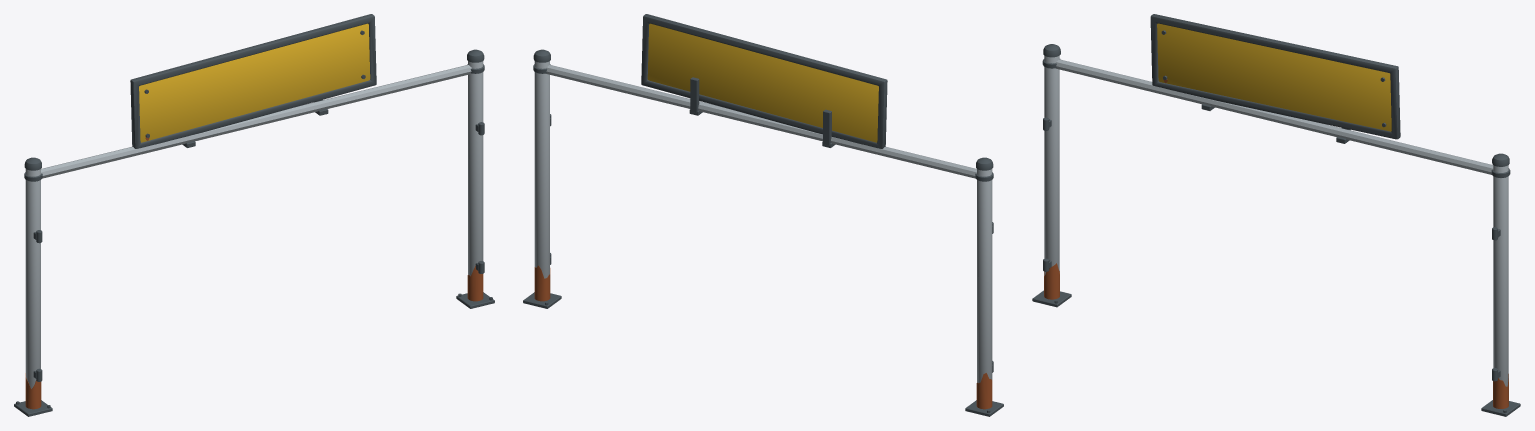
The model's file is fence_gate.glb.
3 renders of one model, left to right at view 1: azimuth 30°, elevation 25°; view 2: azimuth 150°, elevation 25°; view 3: azimuth 330°, elevation 25°, orthographic.
Parts seen in each view (by area): view 1: Gate; view 2: Gate; view 3: Gate.
Part boxes in pixels (bbox=[...]): Gate: bbox=[14, 14, 494, 416]; Gate: bbox=[523, 14, 1003, 416]; Gate: bbox=[1032, 14, 1520, 416].
Size of the model in its own units: 5.28 by 3.37 by 0.285.
